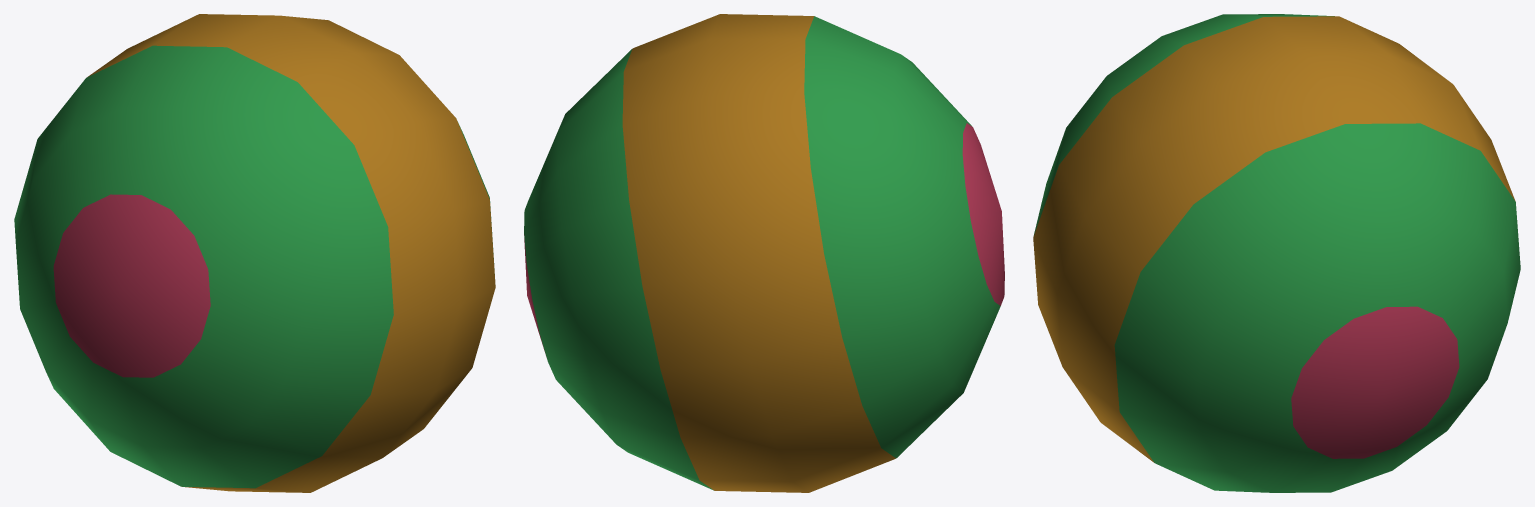
The model's file is Pelota.FBX.
3 views of the same model, side by side, from view 1: azimuth 30°, elevation 25°; view 2: azimuth 150°, elevation 25°; view 3: azimuth 270°, elevation 25° (orthographic).
Parts seen in each view (by area): view 1: Pelota; view 2: Pelota; view 3: Pelota.
Boxes of the visible parts, box(x1,y1,x2,y2) form: Pelota: box(14, 14, 495, 492); Pelota: box(524, 14, 1004, 492); Pelota: box(1033, 14, 1520, 492).
Bounding box in the file's own units: 12.56 × 12.45 × 12.52.
